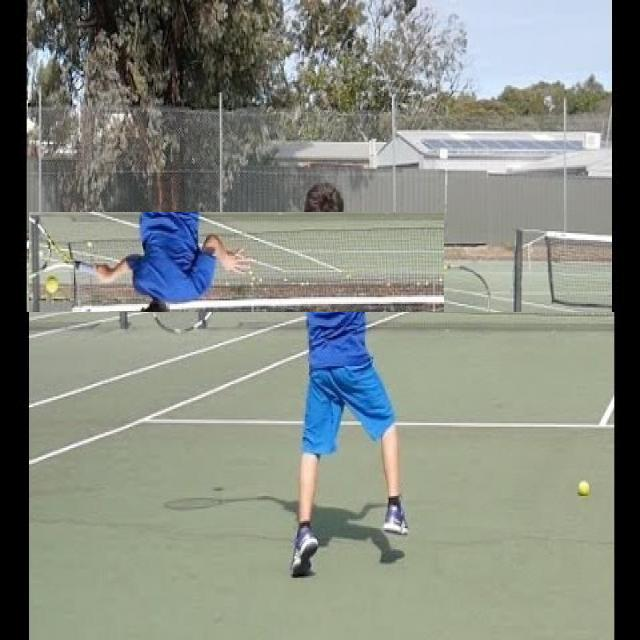court: (2, 312, 639, 640)
net: (29, 212, 446, 332)
player: (206, 178, 500, 576)
